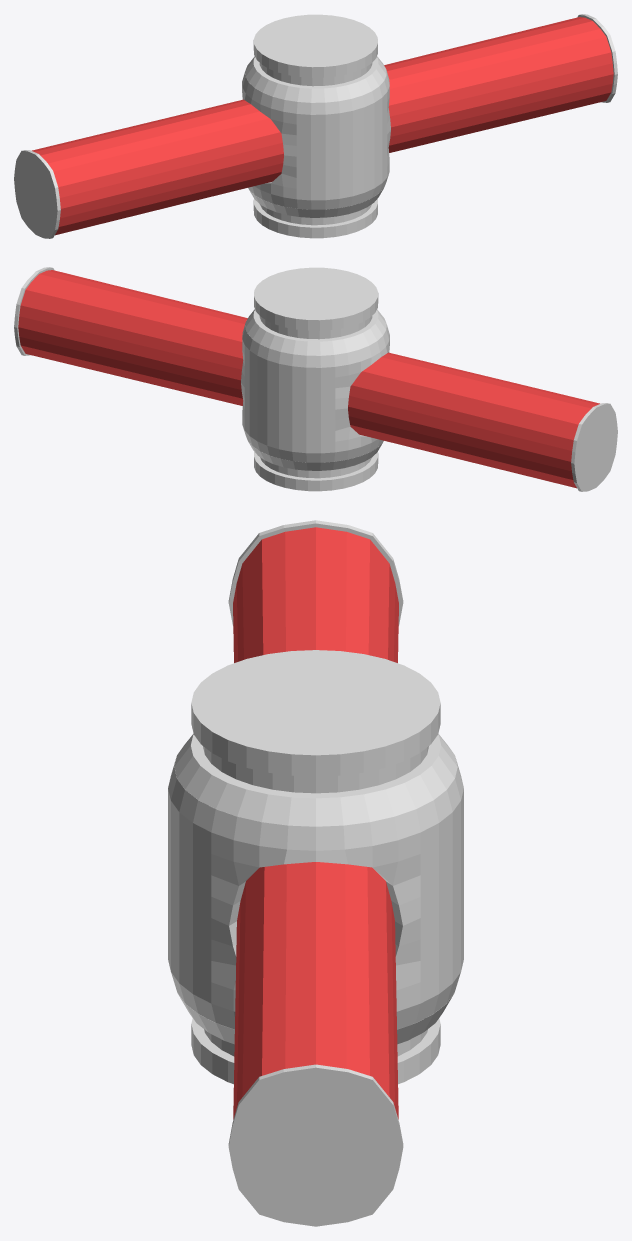
The model's file is Rotator.fbx.
The picture shows the model from 3 angles, top to bottom: view 1: azimuth 30°, elevation 25°; view 2: azimuth 150°, elevation 25°; view 3: azimuth 270°, elevation 25°; orthographic projection. The views are drawn at different scales.
Parts seen in each view (by area): view 1: Rotator; view 2: Rotator; view 3: Rotator.
Boxes of the visible parts, x1,y1,x2,y2 form: Rotator: (14,14,617,238); Rotator: (14,267,617,491); Rotator: (168,520,463,1226).
Bounding box in the file's own units: 914 × 267 × 209.
